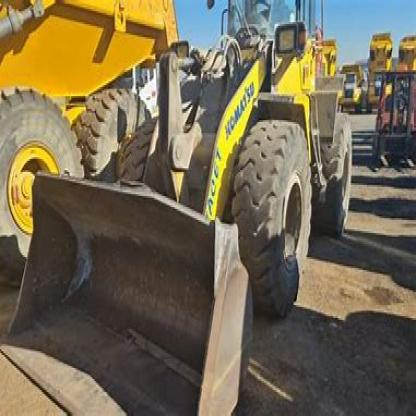bull_dozer/loader/grader: (3, 0, 359, 414)
